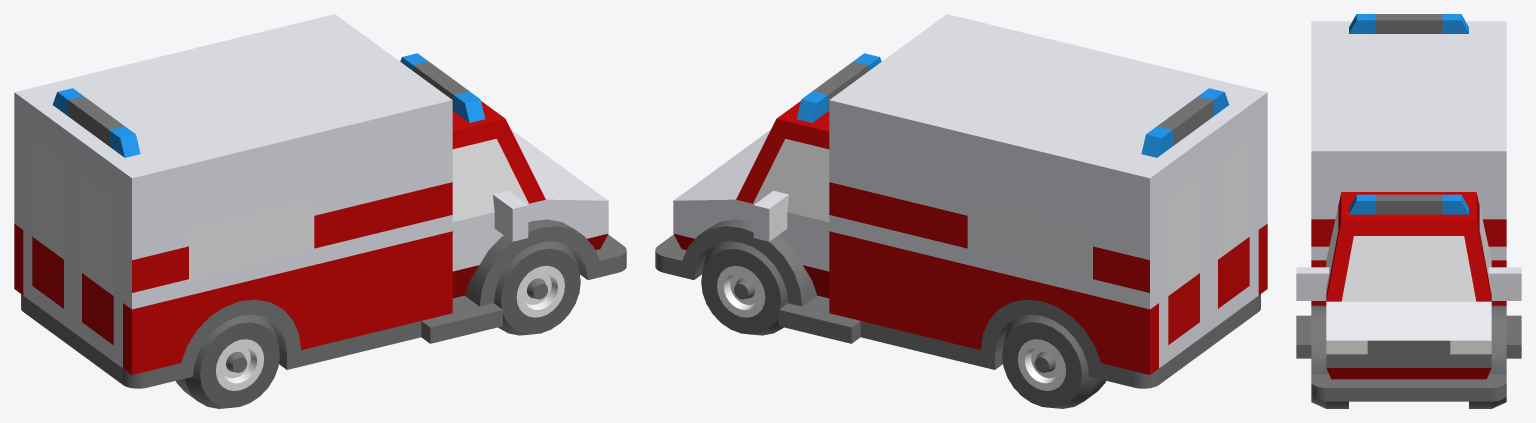
File: 03 Ambulance.FBX
3 views of the same model, side by side, from view 1: azimuth 30°, elevation 25°; view 2: azimuth 150°, elevation 25°; view 3: azimuth 270°, elevation 25° (orthographic). The views are drawn at different scales.
Visible parts, largest first — view 1: body, doorLeft, doorRight, wheel_backRight, wheel_frontRight; view 2: body, doorRight, doorLeft, wheel_backLeft, wheel_frontLeft; view 3: body, wheel_frontLeft, wheel_frontRight.
Boxes of the visible parts, bbox=[...] form: body: bbox=[14, 14, 626, 388]; doorLeft: bbox=[23, 115, 72, 331]; doorRight: bbox=[73, 152, 122, 368]; wheel_backRight: bbox=[176, 314, 279, 408]; wheel_frontRight: bbox=[494, 241, 580, 335]; body: bbox=[655, 14, 1267, 388]; doorRight: bbox=[1209, 115, 1258, 331]; doorLeft: bbox=[1159, 152, 1208, 368]; wheel_backLeft: bbox=[1002, 314, 1105, 408]; wheel_frontLeft: bbox=[701, 241, 787, 335]; body: bbox=[1296, 14, 1521, 401]; wheel_frontLeft: bbox=[1469, 396, 1506, 408]; wheel_frontRight: bbox=[1311, 396, 1348, 408].
Bounding box in the file's own units: 800 × 425 × 375.
